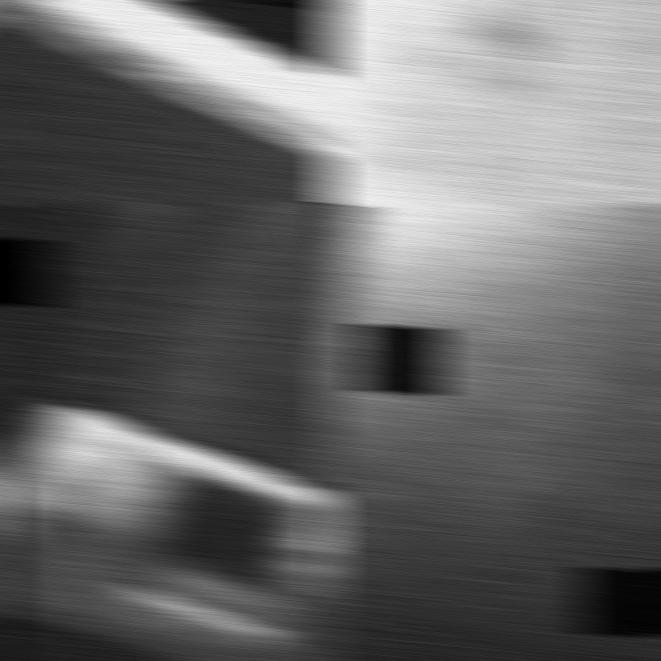Airbag: (321, 203, 661, 661), (0, 203, 339, 661), (321, 0, 661, 205), (0, 0, 339, 204)
